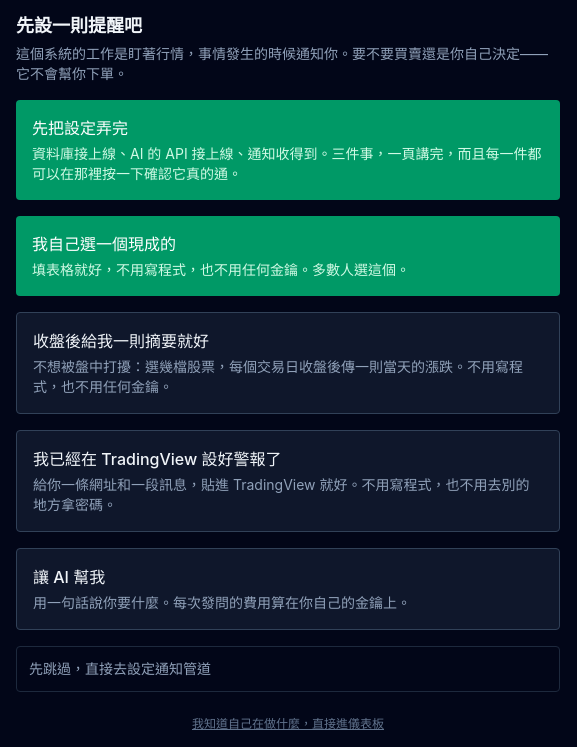
it: 引導流程 › 沒有管道時，第一個給的是不用去別的地方拿值的那一種
What coordinates should you click on to do the following:
click the button "先跳過，直接去設定通知管道"
I would click on:
 (120, 668)
Its box is [16, 646, 560, 692].
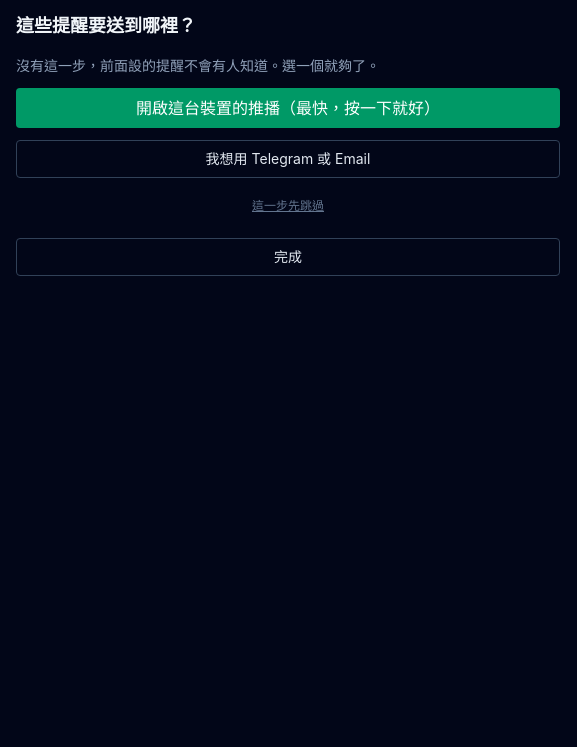
Now the button "開啟這台裝置的推播（最快，按一下就好）" is shown, box [16, 88, 560, 128]
